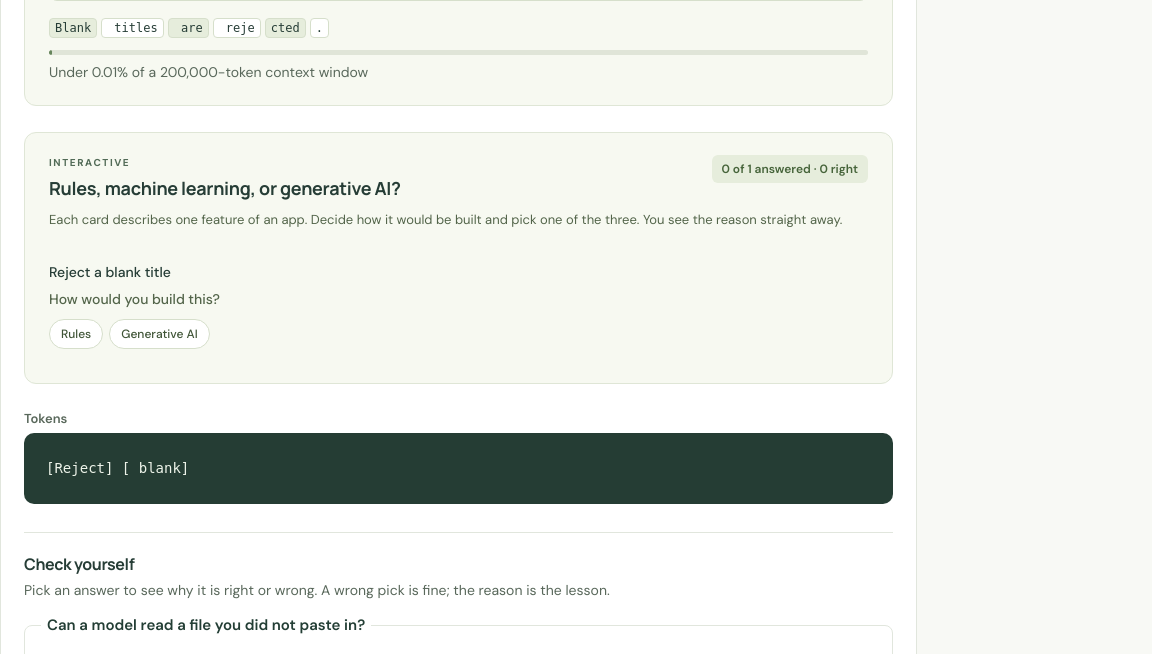
Test: ConceptView widgets and step rail › renders learn widgets after the explanation with instant feedback
(page scrolled)
expect the text "0 of 1 answered · 0 right" is shown: met, box [712,155,868,183]
Click the button "Generative AI": click(160, 334) [109,319,210,349]
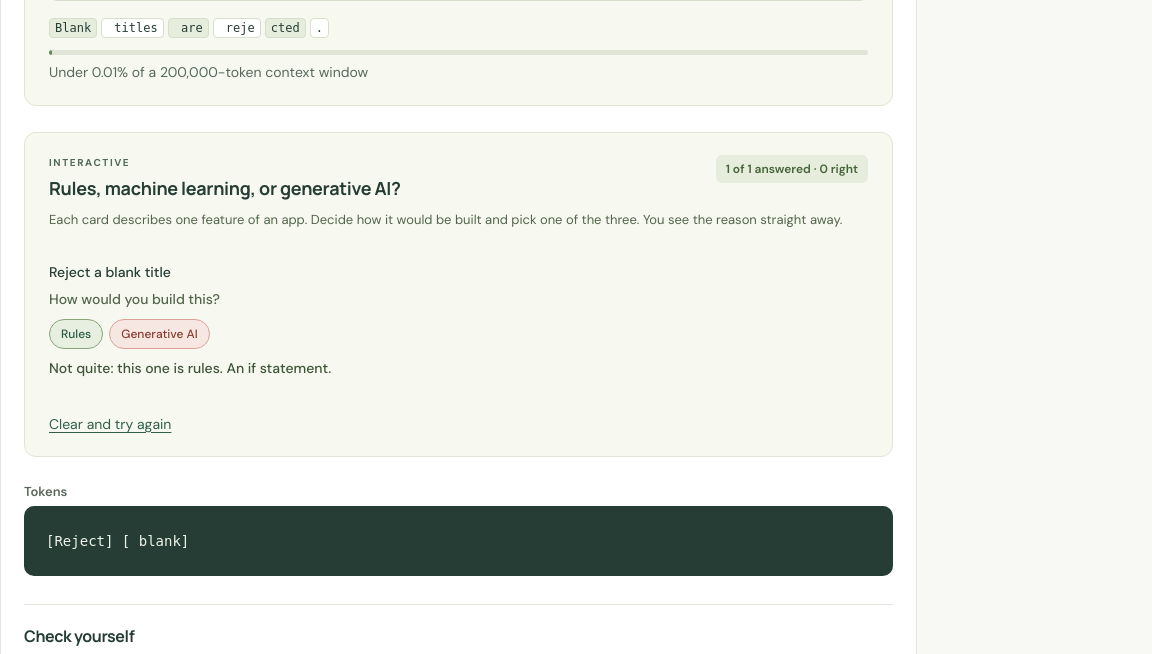
expect the text "1 of 1 answered · 0 right" is shown: met, box [716,155,868,183]
expect the text "Not quite: this one is rules. An if statement." is shown: met, box [49,359,331,377]
expect the button "Rules" is disabled: met, box [49,319,103,349]
